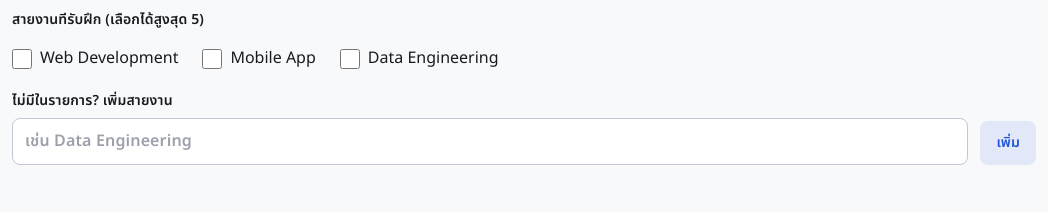
TagPicker › ticks the existing field instead of adding the same words twice
Type "web development" into the field labelled "ไม่มีในรายการ? เพิ่มสายงาน".
click(490, 141); type("web development")  # box [12, 118, 968, 165]
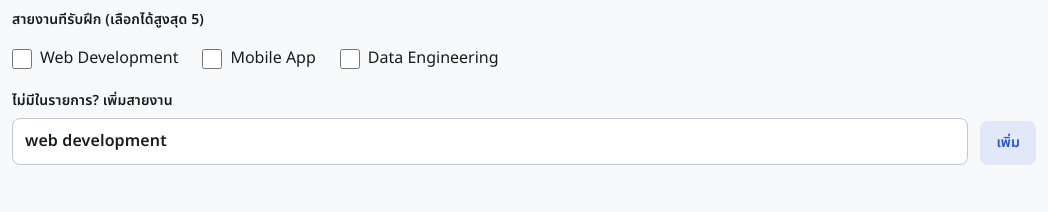
Click the button "เพิ่ม".
click(1008, 143)  # box [980, 121, 1036, 165]
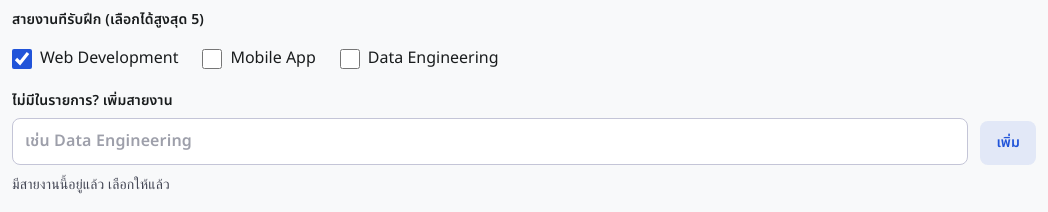
Expected: the number of checkboxes is 3, [12, 49, 32, 69]; [202, 49, 222, 69]; [340, 49, 360, 69]
Expected: the text "มีสายงานนี้อยู่แล้ว เลือกให้แล้ว" is shown, [12, 174, 170, 195]
